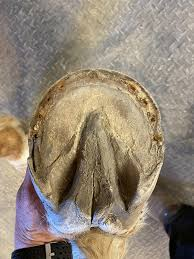horsesole: (26, 68, 166, 211)
